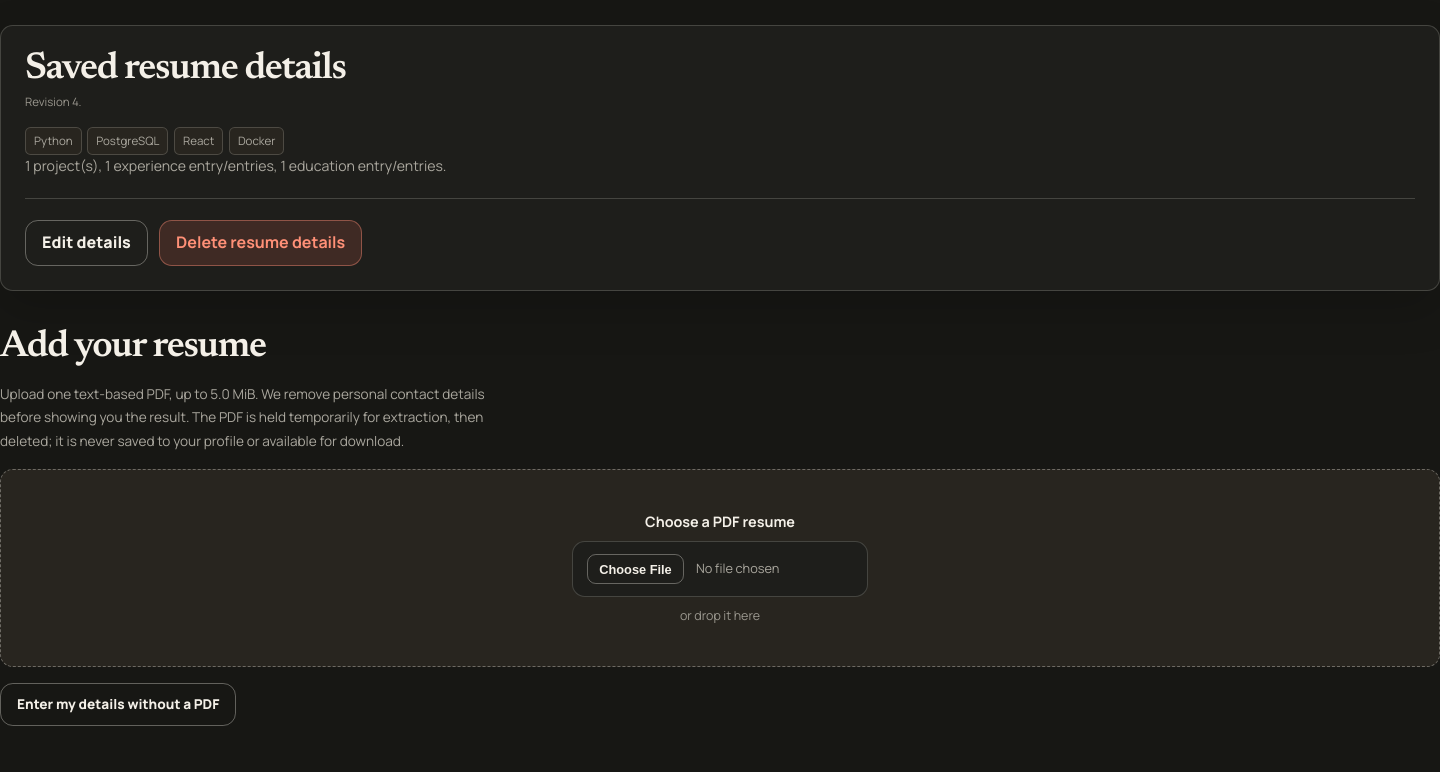
review safety during requests › shows the fetched version and requires a choice after a conflict
Expected: the element with test id "saved-profile" is shown, [0,25,1439,291]
Click the button "Edit details": (86, 243) [25,220,148,266]
(page scrolled)
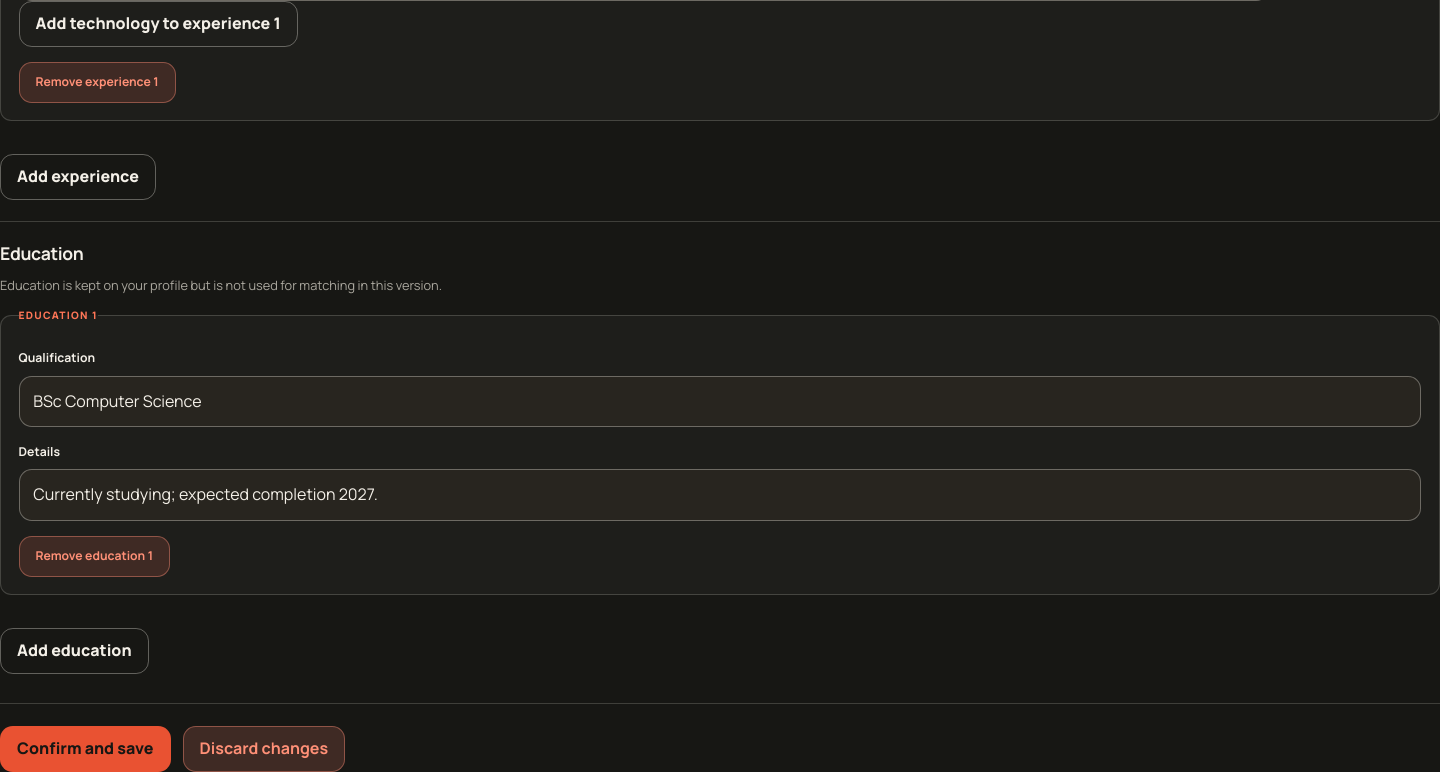
Click the button "Confirm and save": (85, 749) [0,726,170,771]
(page scrolled)
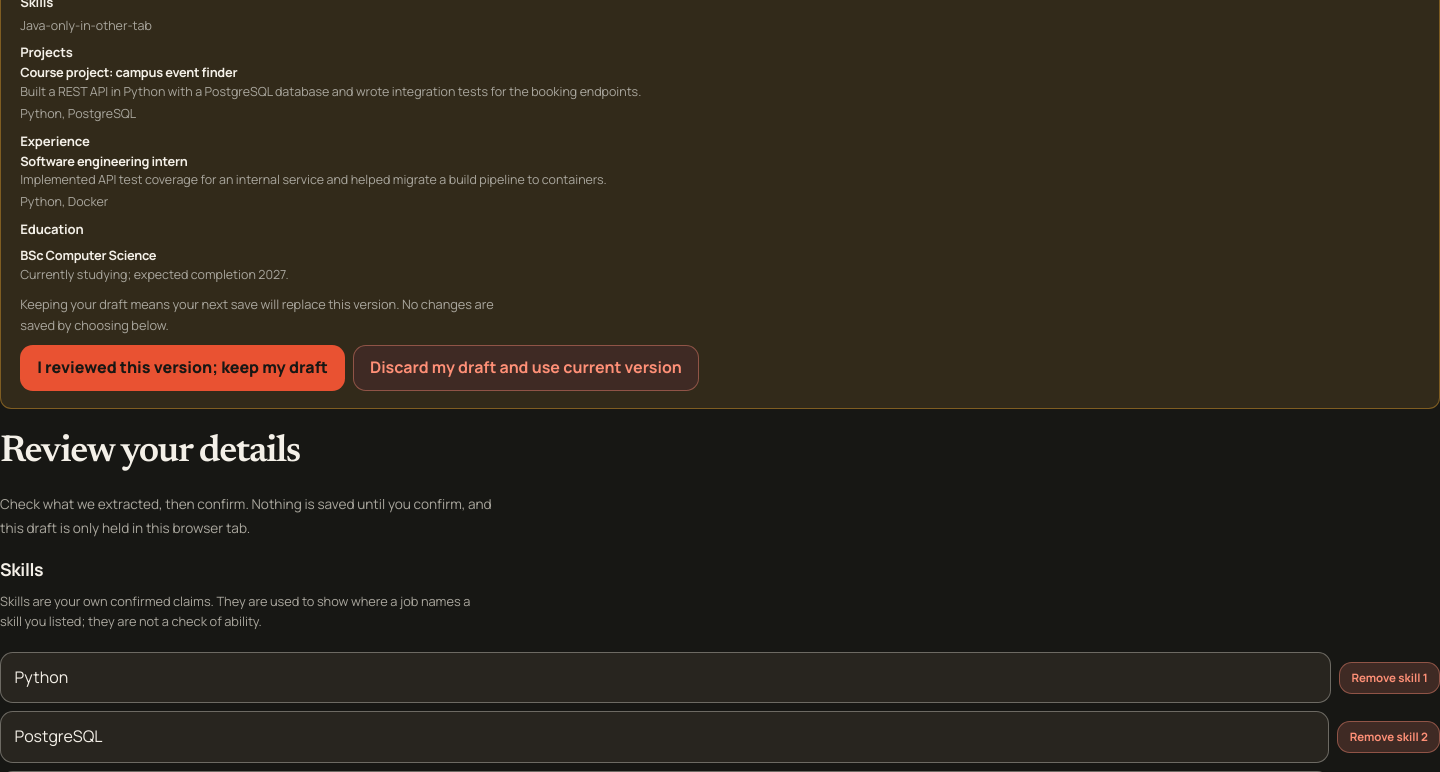
Result: the text "Java-only-in-other-tab" is shown at [20,17,152,34]
Click the button "Discard my draft and use current version": (526, 368) [353,345,699,391]
(page scrolled)
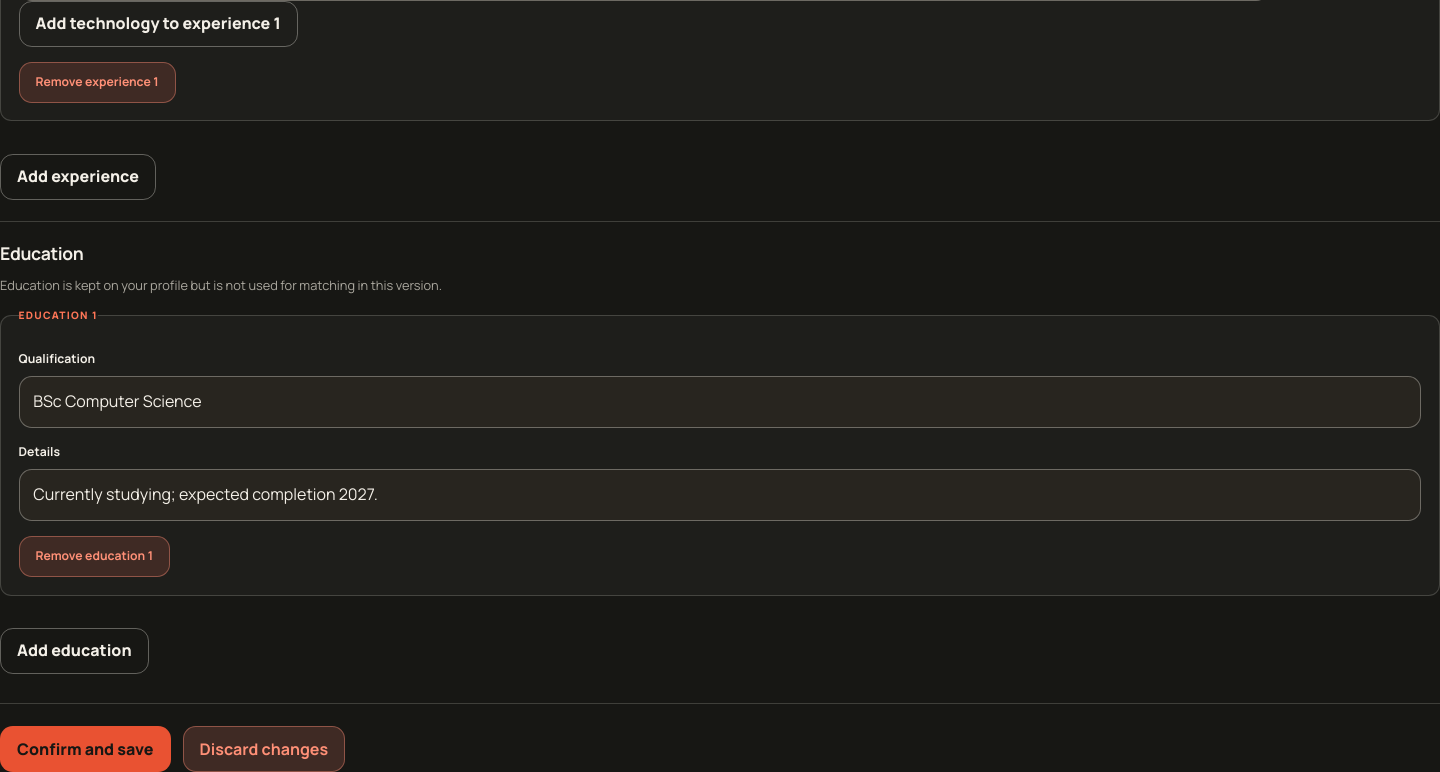
Result: the button "Confirm and save" is enabled at [0,726,170,771]
